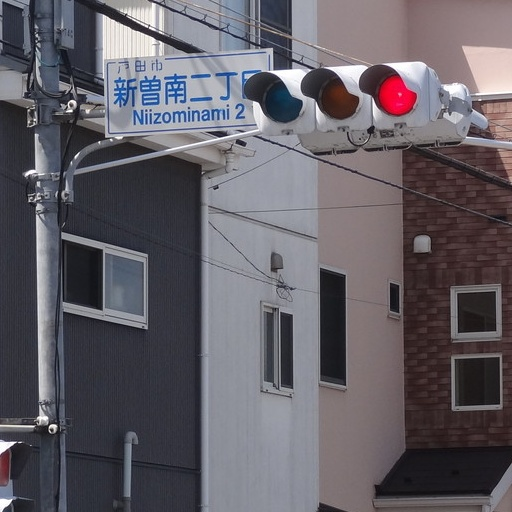Traffic_Signal_Red: (249, 56, 435, 134)
